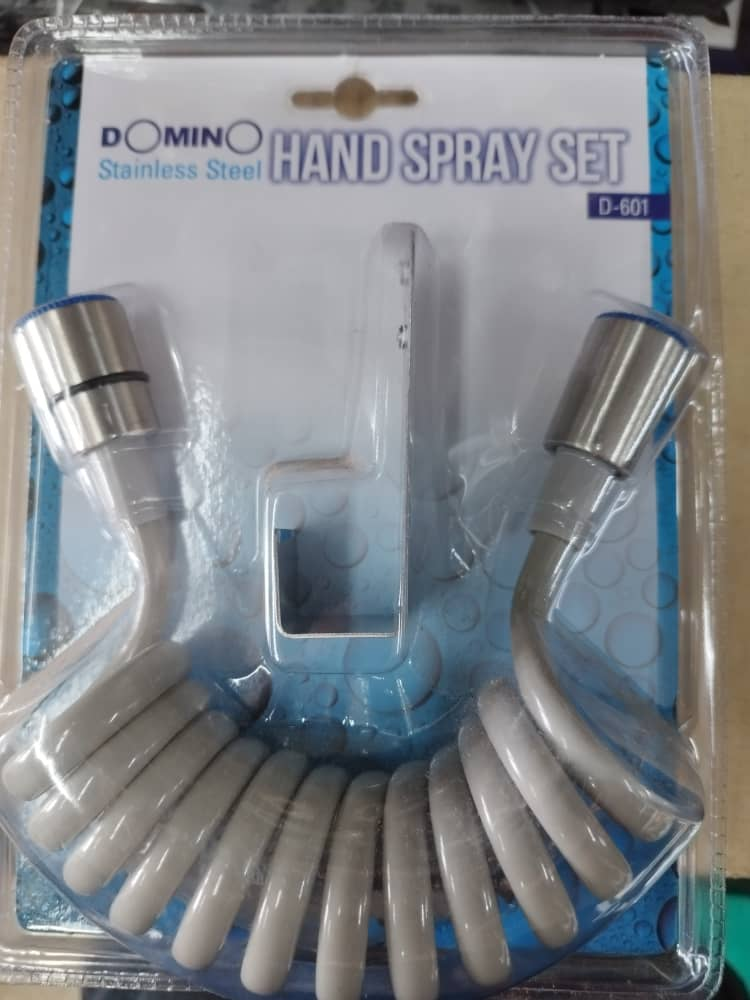sku_sss304_hand_spray_set: (1, 278, 667, 977)
